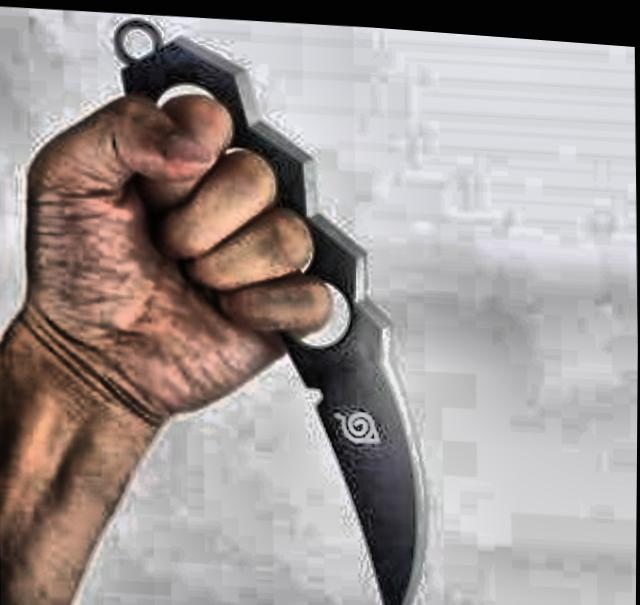knife: (136, 130, 428, 605)
